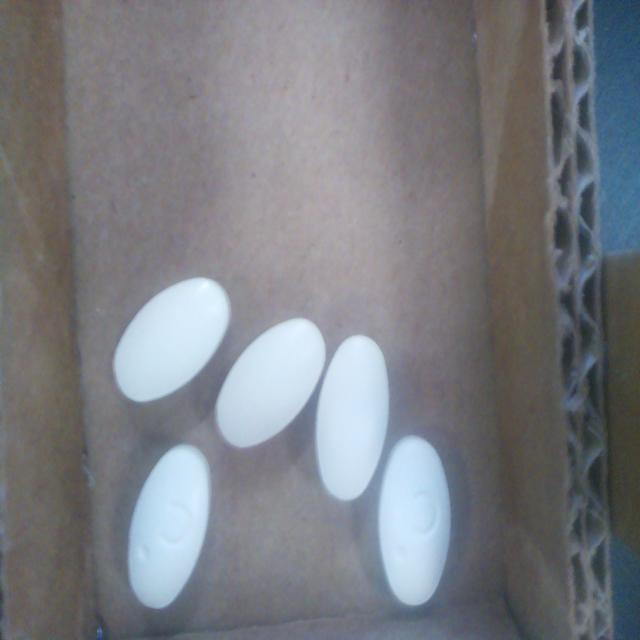pill: (113, 278, 230, 403), (216, 318, 325, 447), (128, 444, 211, 609), (378, 436, 451, 606), (316, 335, 389, 500)
